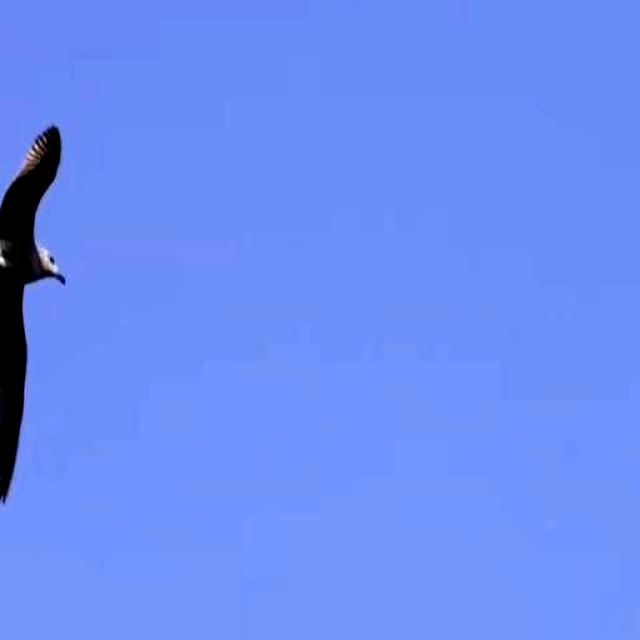airplane: (0, 116, 101, 488)
